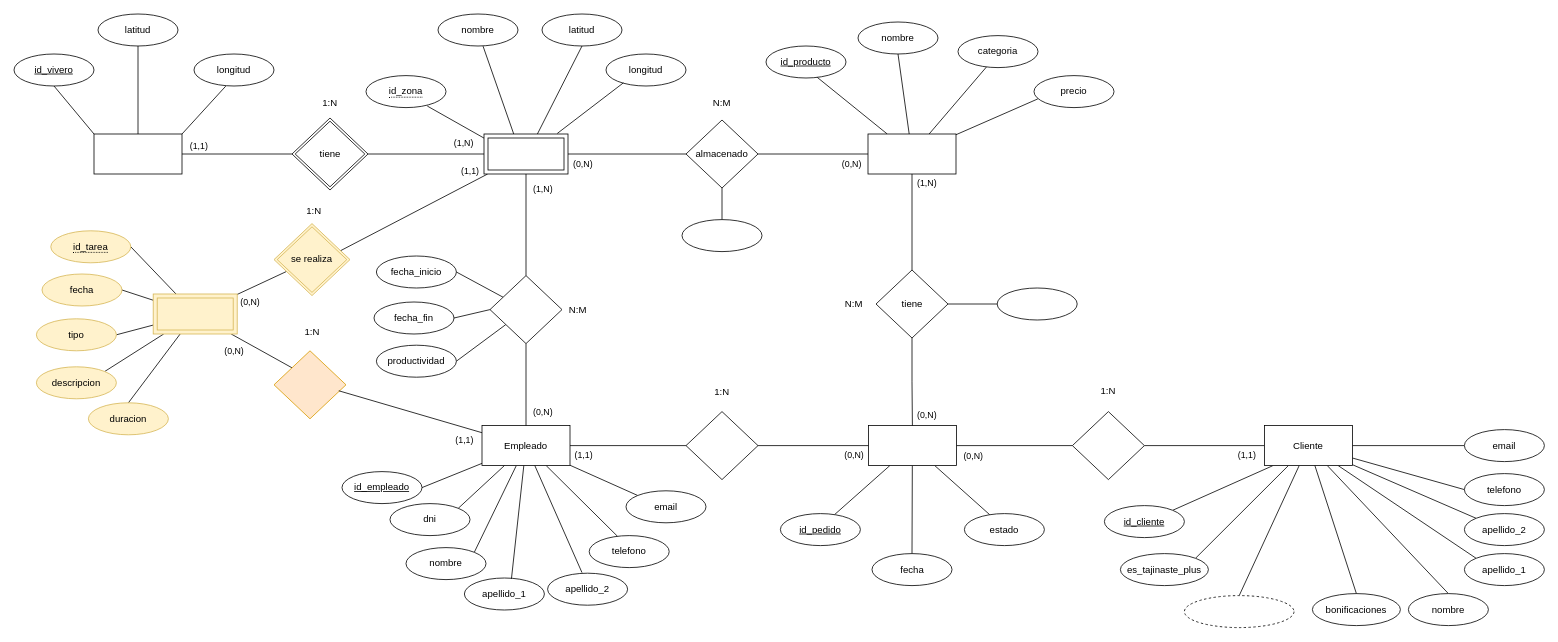
Some shapes in this 1558 by 642 pixel diagram are drawn without their labels. Here are the shapes that lost their labels. From the top down, the box of each, then its label:
(93, 133, 182, 174): Vivero
(483, 133, 568, 174): Zona
(867, 133, 956, 174): Producto
(681, 219, 762, 252): stock
(152, 293, 237, 334): Tarea
(489, 275, 562, 344): asignado
(996, 287, 1077, 320): cantidad
(273, 350, 346, 419): ejecuta
(685, 411, 758, 480): gestiona
(868, 425, 956, 466): Pedido
(1072, 411, 1144, 480): realiza
(1184, 595, 1294, 628): pedidos_realizados
